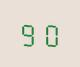nine: (19, 19, 38, 46)
zero: (39, 19, 58, 47)
